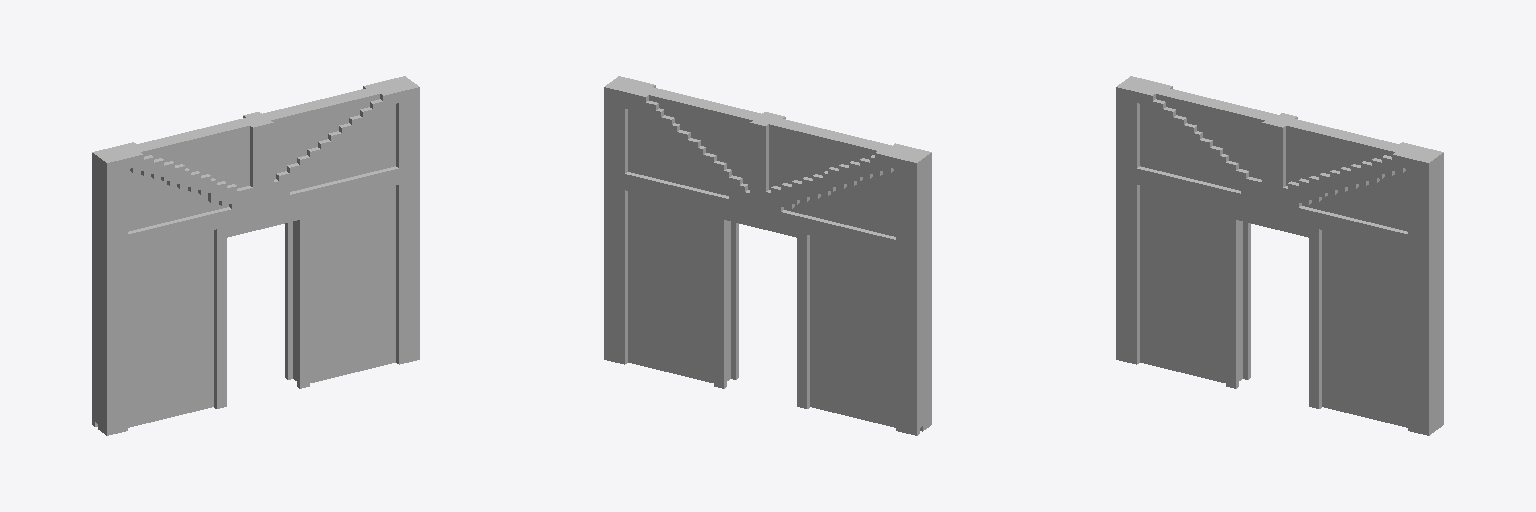
The model's file is Door.obj.
3 renders of one model, left to right at view 1: azimuth 30°, elevation 25°; view 2: azimuth 150°, elevation 25°; view 3: azimuth 330°, elevation 25°, orthographic.
Parts seen in each view (by area): view 1: object 1; view 2: object 1; view 3: object 1.
Boxes of the visible parts, <box> form: object 1: <box>92,76,419,435</box>; object 1: <box>604,76,931,435</box>; object 1: <box>1116,76,1443,435</box>.
Size of the model in its own units: 6 by 5 by 0.5.